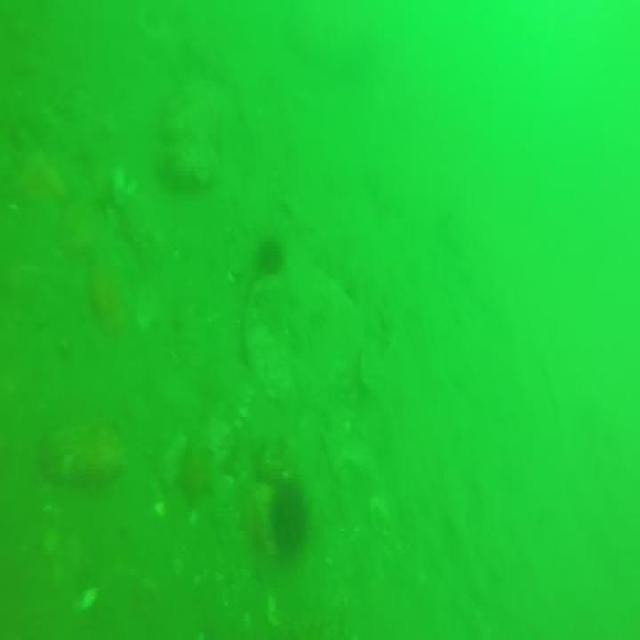echinus: (267, 477, 309, 561), (260, 237, 284, 278)
scallop: (368, 494, 398, 538), (113, 164, 137, 207)
